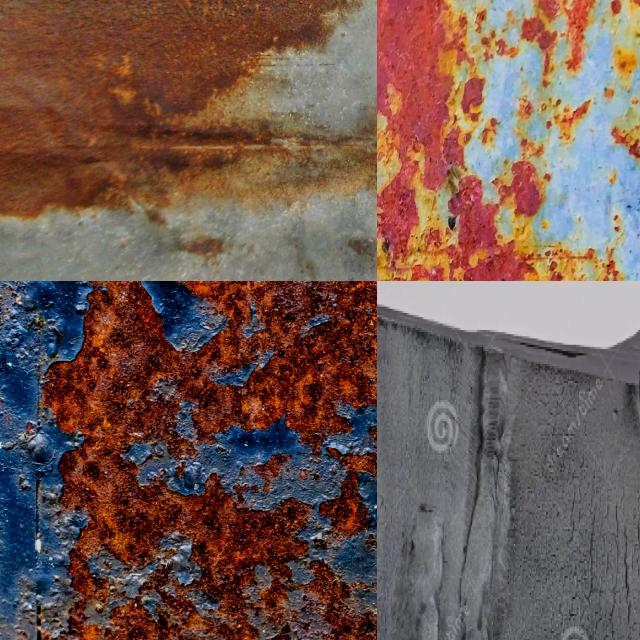Crack: (526, 435, 640, 640)
Pitting Corrosion: (36, 281, 377, 640)
Uniform Corrosion: (377, 0, 622, 281), (493, 0, 640, 238), (495, 160, 542, 216), (611, 126, 640, 159)
